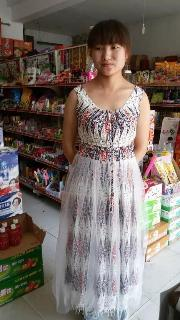vest: (52, 84, 149, 320)
